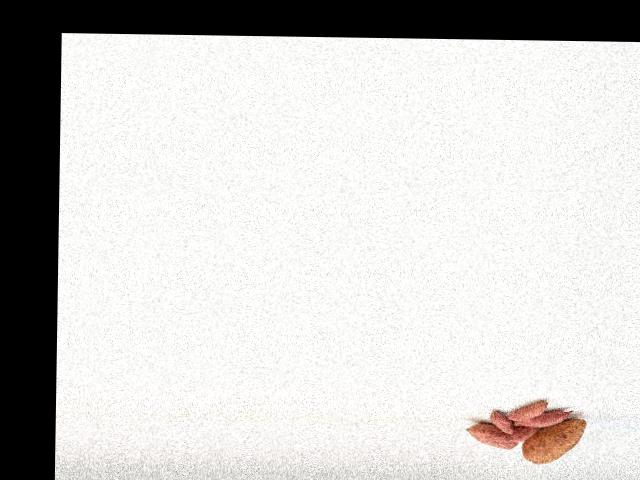sweet_potato: (463, 422, 517, 449)
